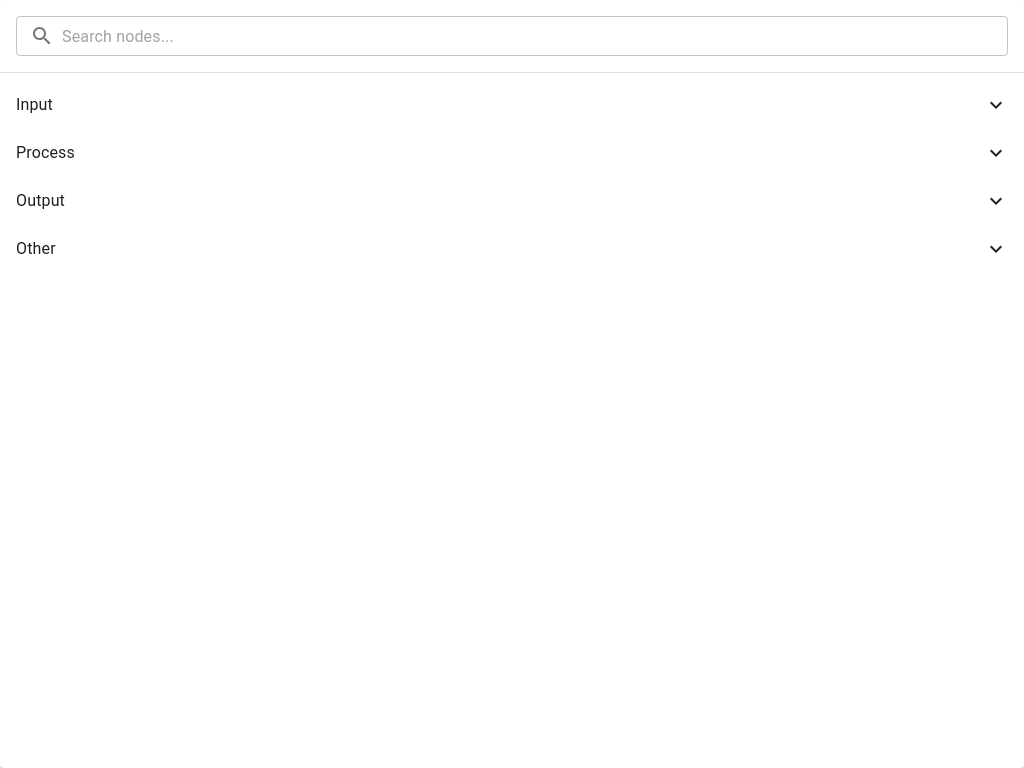
Test case: Sidebar Component › expands category when clicked
Click the button "Input" at (34, 104), box [16,93,1008,117]
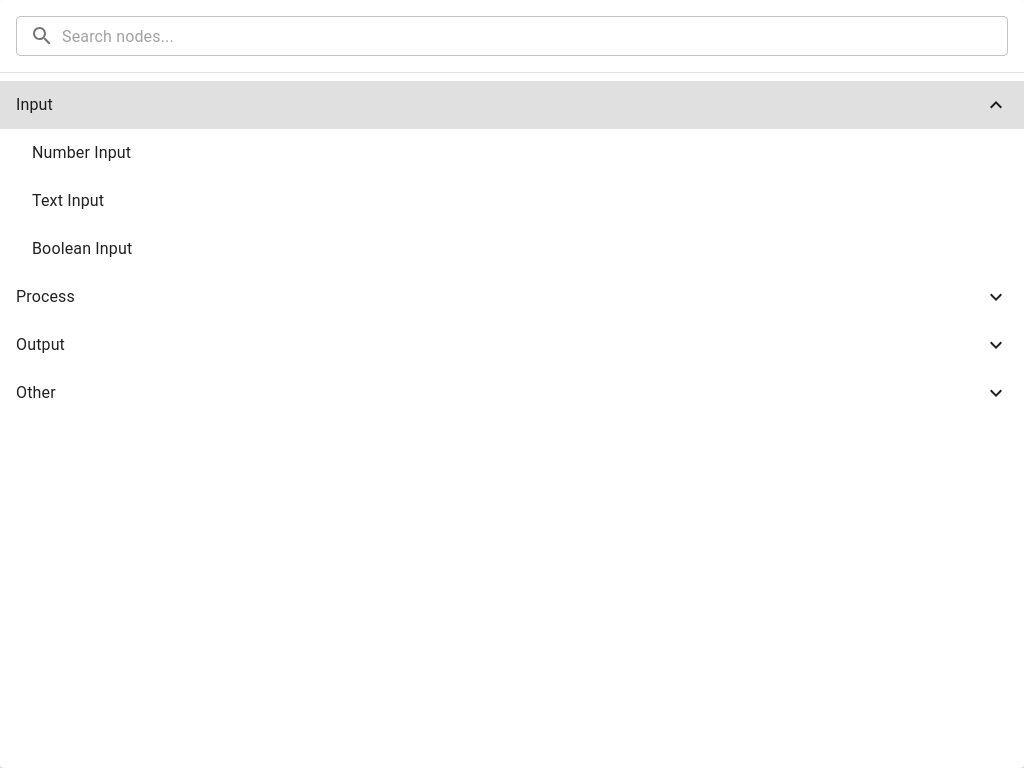
Expected: the text "Number Input" is shown, [32,143,131,162]
Expected: the text "Text Input" is shown, [32,191,104,210]
